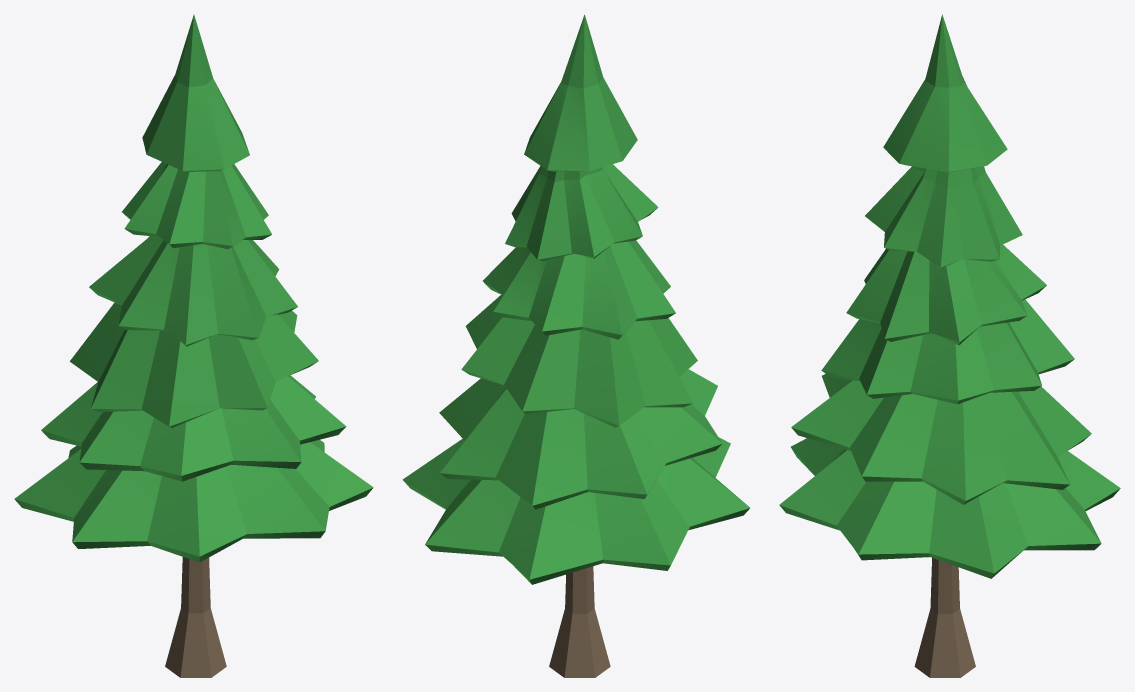
File: pine_a.FBX
3 renders of one model, left to right at view 1: azimuth 30°, elevation 25°; view 2: azimuth 150°, elevation 25°; view 3: azimuth 270°, elevation 25°, orthographic.
Visible parts, largest first — view 1: pine_a; view 2: pine_a; view 3: pine_a.
Boxes of the visible parts, bbox=[...] form: pine_a: bbox=[14, 14, 373, 677]; pine_a: bbox=[402, 14, 749, 677]; pine_a: bbox=[779, 14, 1120, 677].
Bounding box in the file's own units: 2.65 × 5.52 × 2.63.
